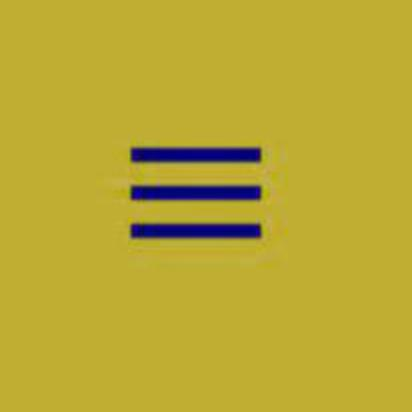ImgButton: (1, 1, 411, 411)
